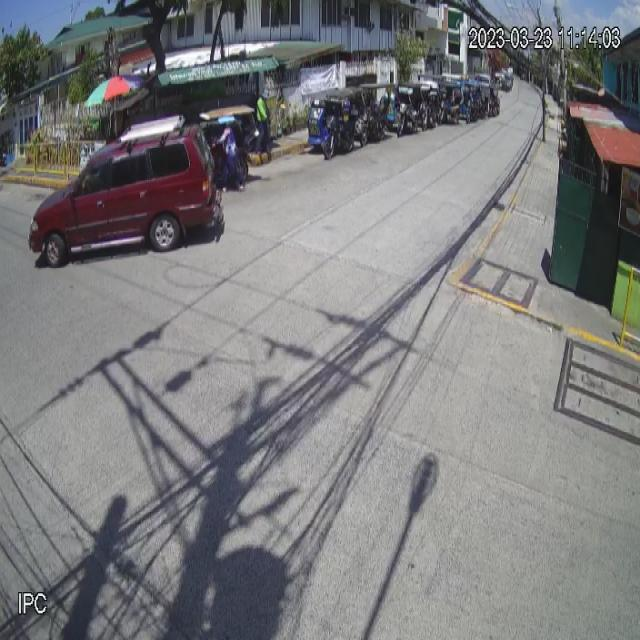Car: (28, 110, 222, 268)
